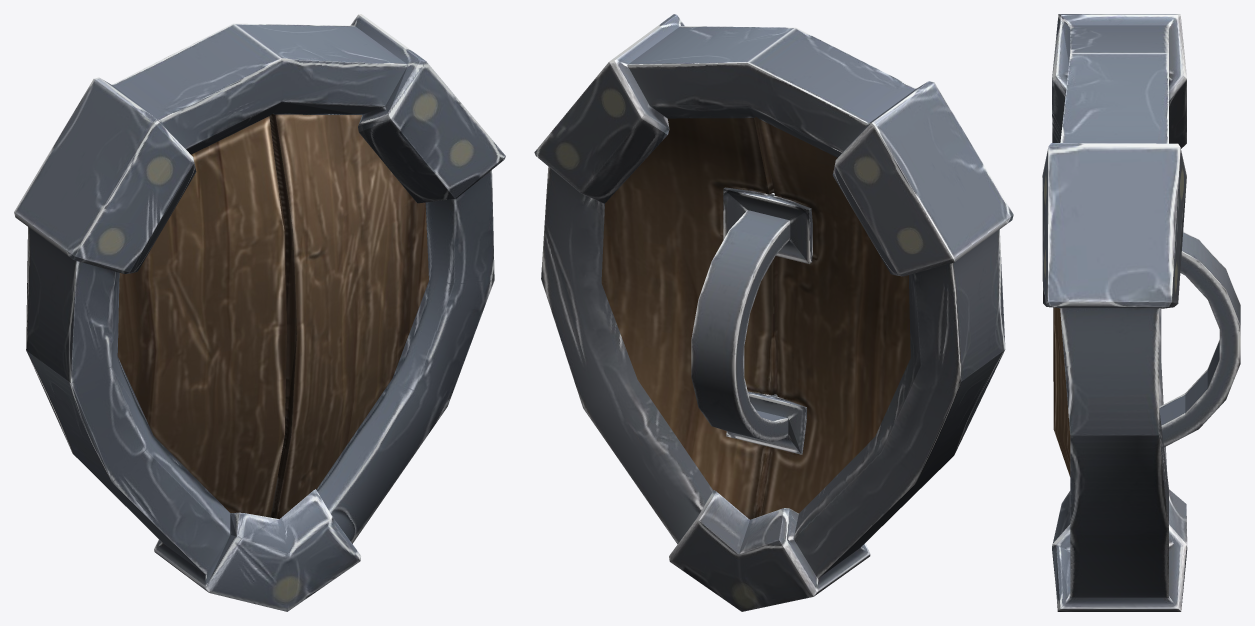
3 views of the same model, side by side, from view 1: azimuth 30°, elevation 25°; view 2: azimuth 150°, elevation 25°; view 3: azimuth 270°, elevation 25° (orthographic). The views are drawn at different scales.
Visible parts, largest first — view 1: SM_Goblin_Shield__0; view 2: SM_Goblin_Shield__0; view 3: SM_Goblin_Shield__0.
Boxes of the visible parts, x1,y1,x2,y2 form: SM_Goblin_Shield__0: (14, 14, 505, 611); SM_Goblin_Shield__0: (534, 14, 1013, 611); SM_Goblin_Shield__0: (1042, 14, 1240, 611).
Size of the model in its own units: 52.38 by 64.33 by 20.74.
Materials: 1 (1 with a texture image).
